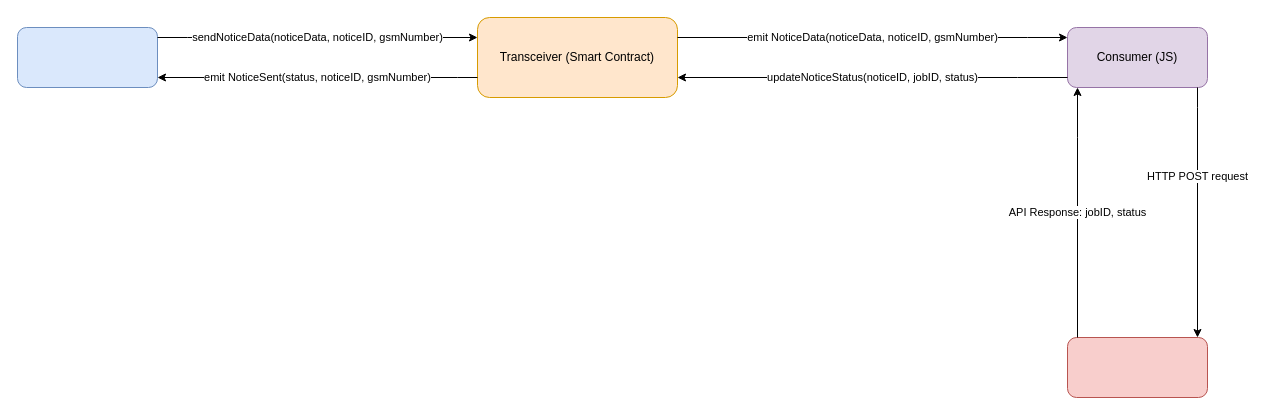
This 1265x415 diagram has some shape labels left out. The shapes that lost their labels are listed below. From the top down, each one's centre as x and y in pixels, then its label:
the point at 87,57: Producer (JS) (Kurum)
the point at 1137,367: Test API (Express) (Operator)
